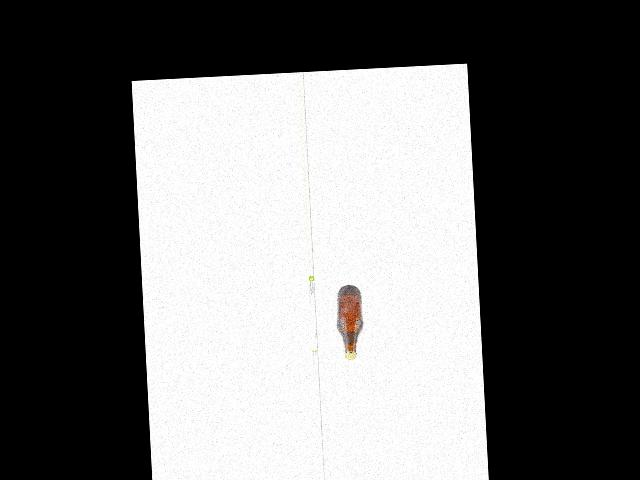beer: (334, 284, 364, 360)
